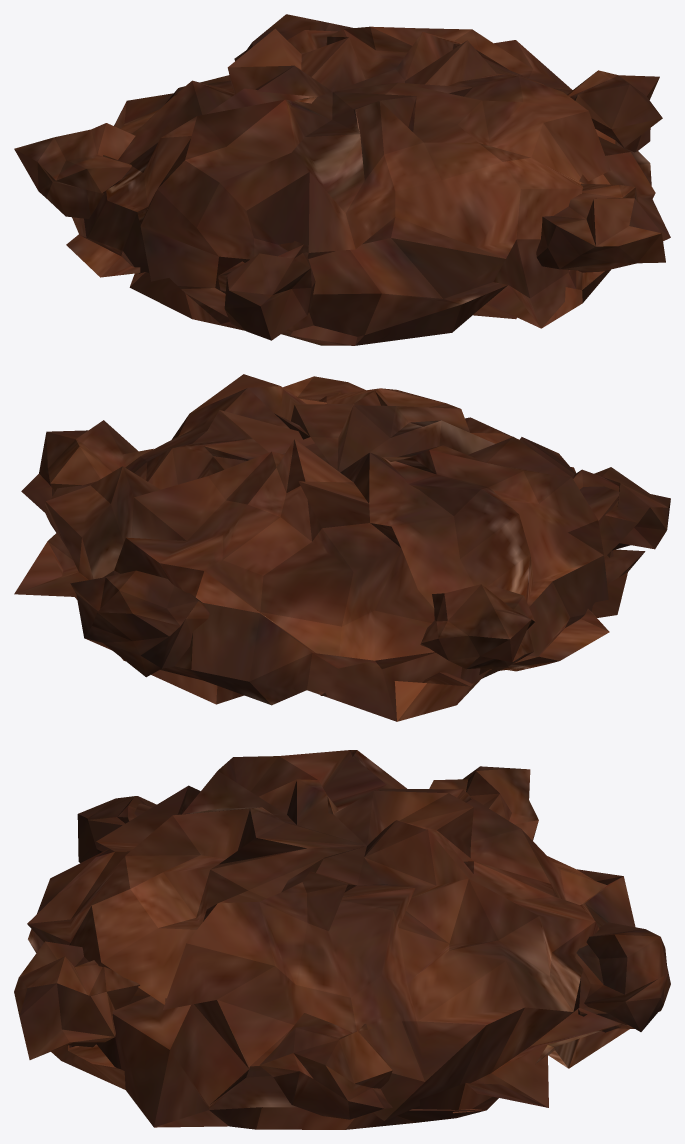
File: dirt.glb
The picture shows the model from 3 angles, top to bottom: view 1: azimuth 30°, elevation 25°; view 2: azimuth 150°, elevation 25°; view 3: azimuth 270°, elevation 25°; orthographic projection. The views are drawn at different scales.
Parts seen in each view (by area): view 1: model; view 2: model; view 3: model.
Boxes of the visible parts, box(x1,y1,x2,y2) form: model: box(14, 14, 670, 345); model: box(14, 374, 670, 721); model: box(14, 750, 670, 1129).
Size of the model in its own units: 0.2773 by 0.0856 by 0.2531.
2 materials, 2 textured.
